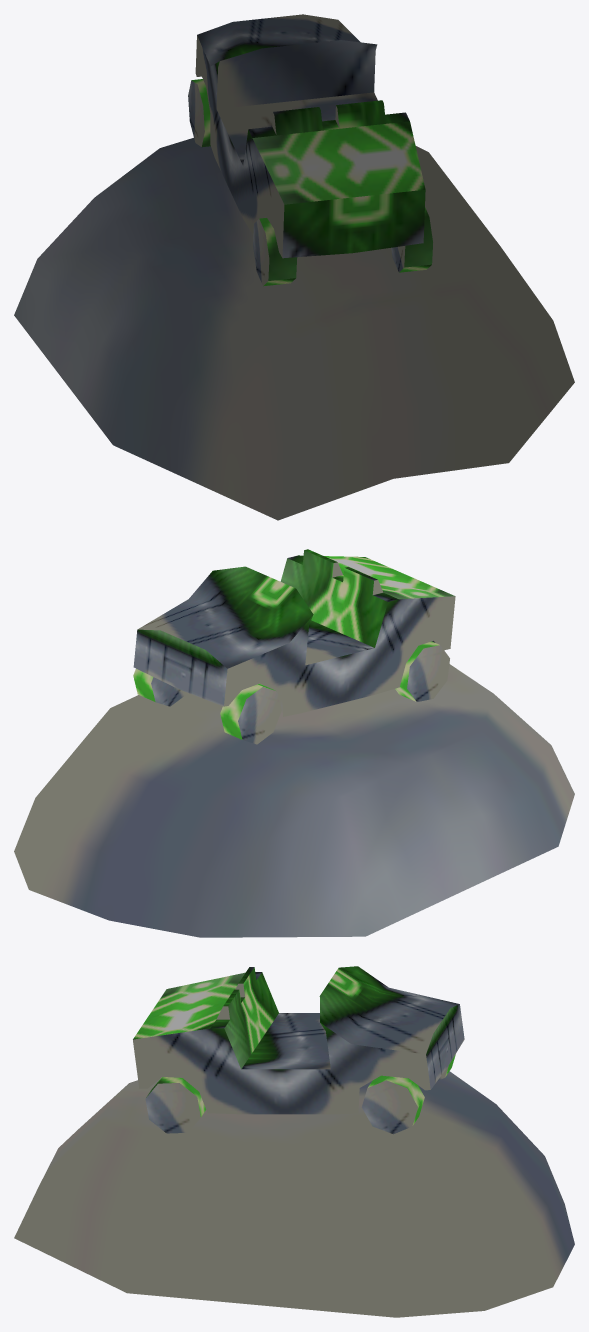
The model's file is icon.ico.obj.
3 renders of one model, top to bottom at view 1: azimuth 30°, elevation 25°; view 2: azimuth 150°, elevation 25°; view 3: azimuth 270°, elevation 25°, orthographic. The views are drawn at different scales.
Bounding box in the file's own units: 4.06 × 2.61 × 4.92.
